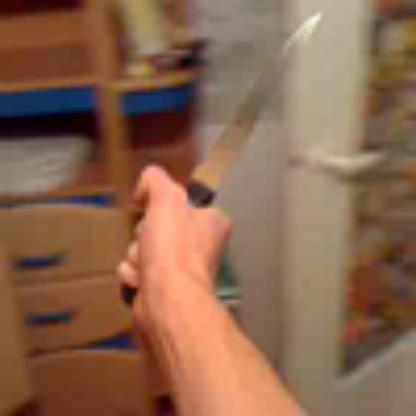knives: (129, 8, 349, 304)
